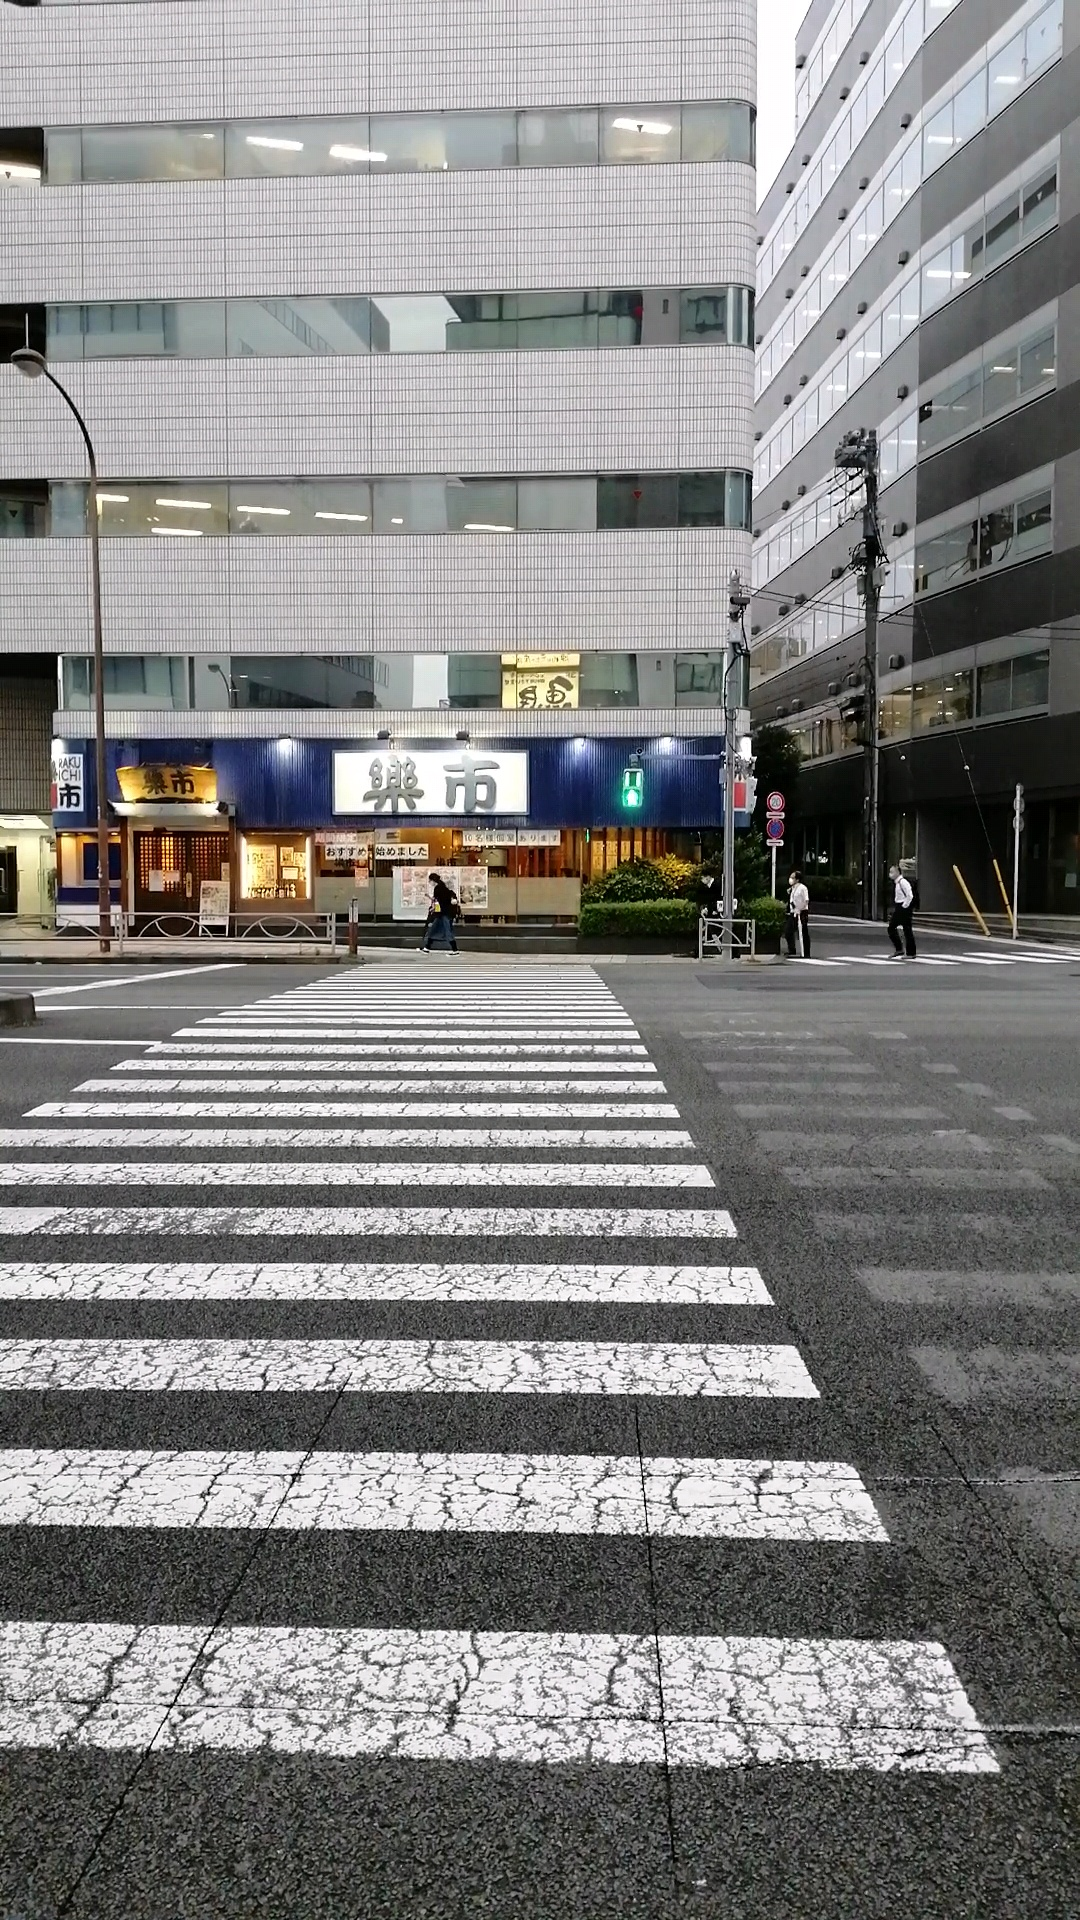green: (621, 767, 644, 807)
